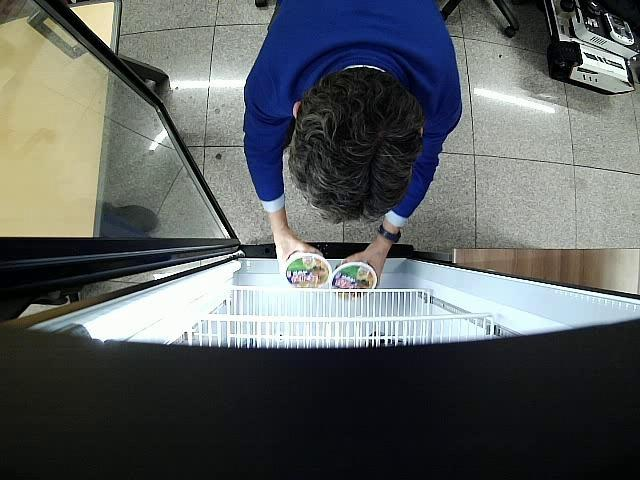09_yukGaeJang: (332, 262, 378, 300), (284, 252, 332, 288)
